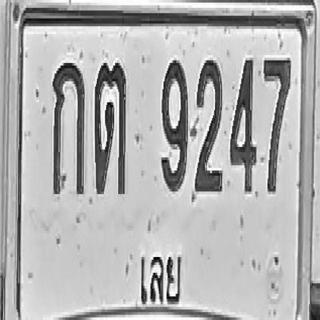A01: (52, 60, 84, 194)
A21: (94, 60, 126, 194)
N02: (194, 58, 222, 194)
N04: (229, 56, 256, 193)
N07: (263, 56, 291, 193)
N09: (161, 58, 187, 191)
P22: (134, 240, 186, 315)
